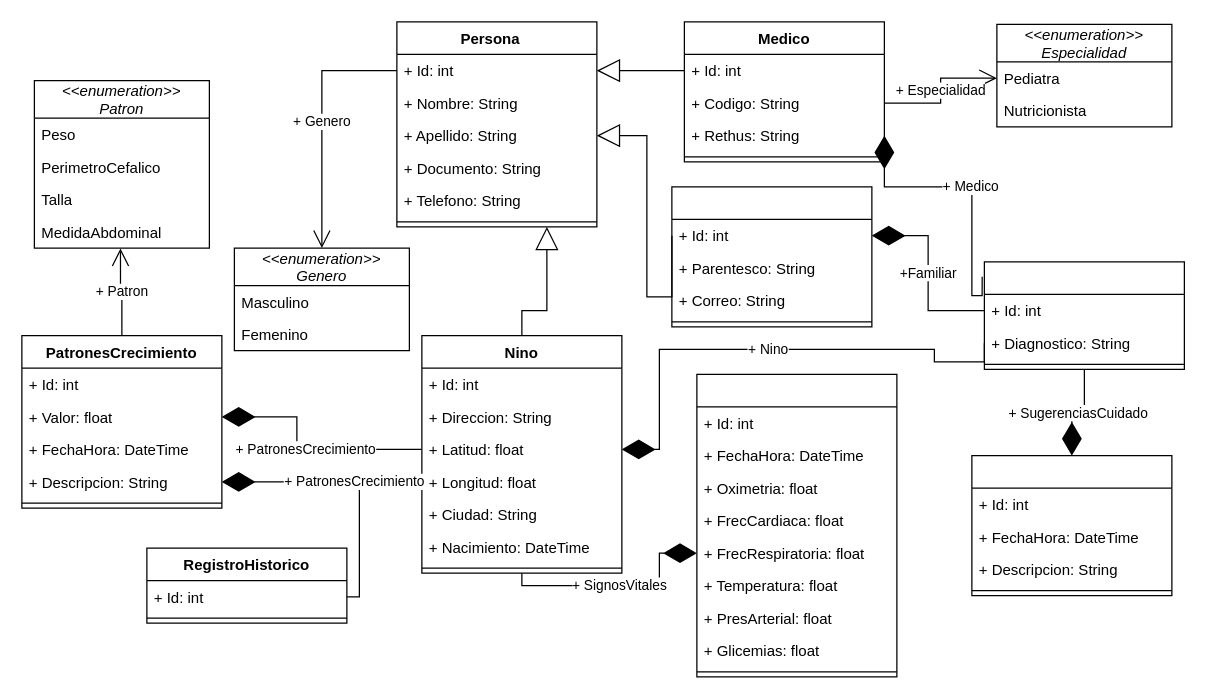
Some shapes in this 1206 by 699 pixel diagram are drawn without their labels. The shapes that lost their labels are listed below. From the top down, each one's box as (x1, y1, x2, y2) in pixels, then its label:
(671, 186, 872, 327): Familliar
(983, 261, 1184, 369): HistoriaClinica
(696, 373, 897, 677): SignosVitales
(971, 454, 1172, 596): SugerenciasCuidado
